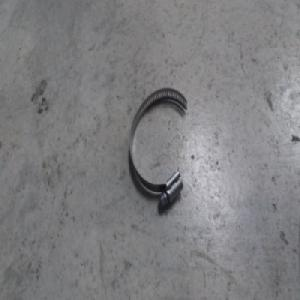AdjustableClamp: (128, 85, 192, 202)
